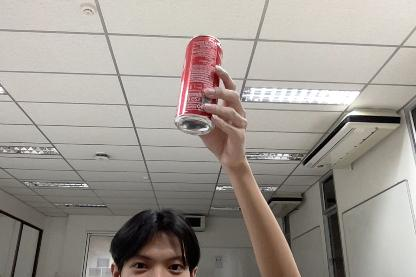Can: (175, 34, 223, 136)
